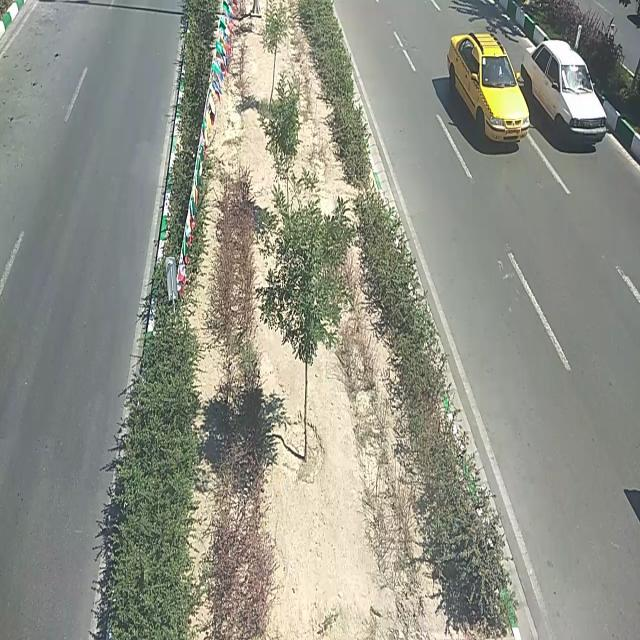car: (445, 30, 529, 144), (522, 44, 607, 145)
